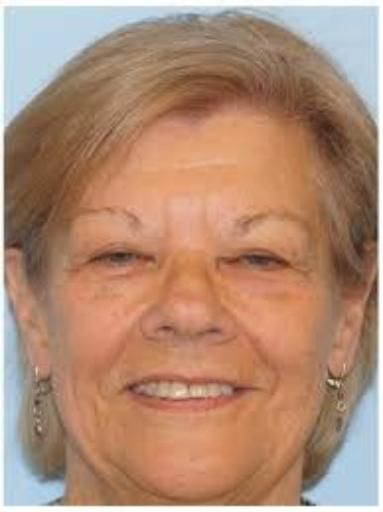left_eye: (228, 252, 291, 275)
left_lip_corner: (238, 379, 265, 400)
right_eye: (89, 246, 155, 270)
right_lip_corner: (114, 379, 140, 404)
